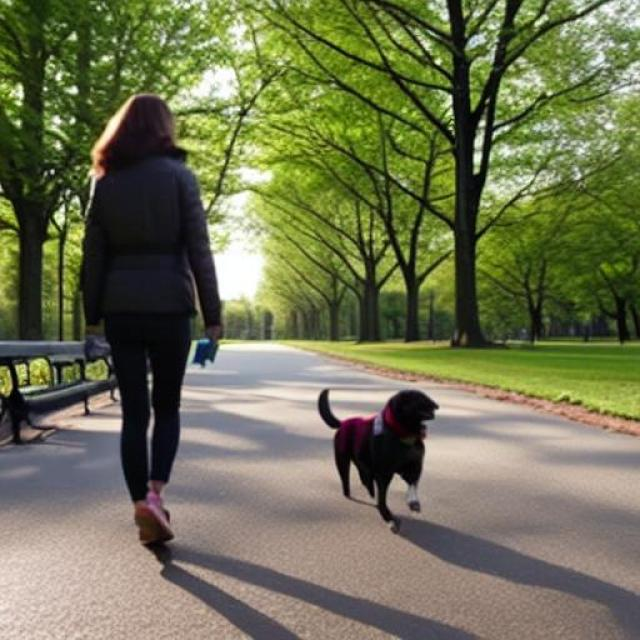Unleashed_Dog: (106, 303, 440, 535)
